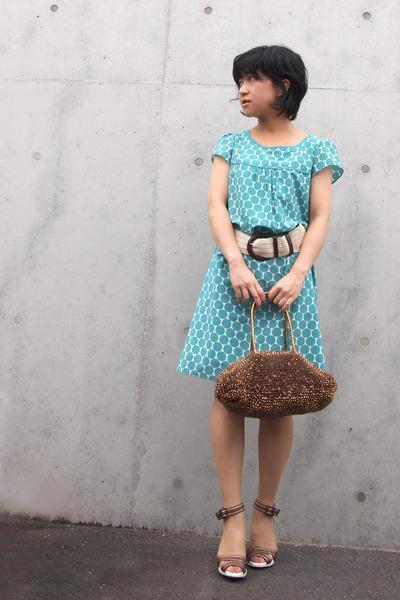bag: (215, 348, 336, 419)
dress: (177, 134, 343, 381)
shoe: (215, 505, 273, 576)
